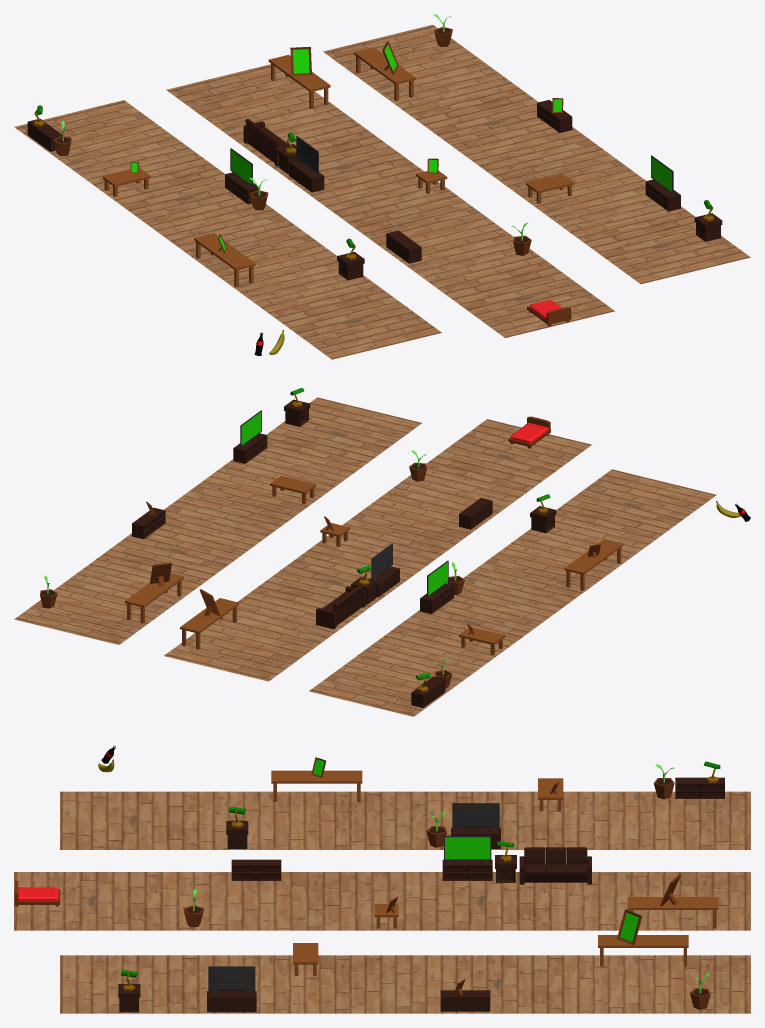
The model's file is map.glb.
3 renders of one model, top to bottom at view 1: azimuth 30°, elevation 25°; view 2: azimuth 150°, elevation 25°; view 3: azimuth 270°, elevation 25°, orthographic. The views are drawn at different scales.
Visible parts, largest first — view 1: $Road2, $Road3, $Road1, long_table1, sofa1, long_table3.001, long_table3, tv_table3.001, bed, tv_table3, long_talbe2.002, tv_table3.002 (+6 smaller); view 2: $Road2, $Road3, $Road1, sofa1, long_table1, long_table3, long_table3.001, bed, tv_table3.001, tv_table3.002, tv_table2, long_talbe2.002 (+3 smaller); view 3: $Road2, $Road1, $Road3, sofa1, long_table1, TV1.002, TV1, long_table3, long_table3.001, tv_table3.001, tv_table3.002, tv_table3.003 (+10 smaller).
Boxes of the visible parts, x1=… form: $Road2: x1=166, y1=64, x2=614, y2=337; $Road3: x1=323, y1=25, x2=750, y2=284; $Road1: x1=14, y1=100, x2=441, y2=359; long_table1: x1=194, y1=233, x2=255, y2=287; sofa1: x1=243, y1=119, x2=295, y2=166; long_table3.001: x1=354, y1=47, x2=415, y2=101; long_table3: x1=268, y1=54, x2=330, y2=108; tv_table3.001: x1=386, y1=230, x2=421, y2=263; bed: x1=527, y1=300, x2=571, y2=326; tv_table3: x1=289, y1=160, x2=324, y2=192; long_talbe2.002: x1=526, y1=174, x2=574, y2=203; tv_table3.002: x1=537, y1=100, x2=572, y2=132; $Road2: x1=164, y1=419, x2=591, y2=681; $Road3: x1=14, y1=397, x2=421, y2=644; $Road1: x1=309, y1=469, x2=716, y2=716; sofa1: x1=316, y1=583, x2=365, y2=629; long_table1: x1=564, y1=539, x2=623, y2=590; long_table3: x1=180, y1=598, x2=239, y2=649; long_table3.001: x1=124, y1=573, x2=183, y2=623; bed: x1=508, y1=416, x2=550, y2=448; tv_table3.001: x1=459, y1=498, x2=492, y2=529; tv_table3.002: x1=132, y1=507, x2=165, y2=539; tv_table2: x1=411, y1=676, x2=445, y2=707; long_talbe2.002: x1=270, y1=475, x2=316, y2=503; $Road2: x1=14, y1=872, x2=750, y2=930; $Road1: x1=60, y1=791, x2=750, y2=849; $Road3: x1=60, y1=955, x2=750, y2=1013; sofa1: x1=519, y1=847, x2=591, y2=884; long_table1: x1=271, y1=770, x2=362, y2=801; TV1.002: x1=208, y1=966, x2=255, y2=994; TV1: x1=452, y1=803, x2=499, y2=830; long_table3: x1=627, y1=897, x2=718, y2=928; long_table3.001: x1=598, y1=935, x2=688, y2=966; tv_table3.001: x1=231, y1=859, x2=281, y2=880; tv_table3.002: x1=440, y1=990, x2=490, y2=1011; tv_table3.003: x1=207, y1=991, x2=256, y2=1012.
Size of the model in its own units: 25.85 by 2.3 by 32.
Materials: 17 (1 with a texture image).
